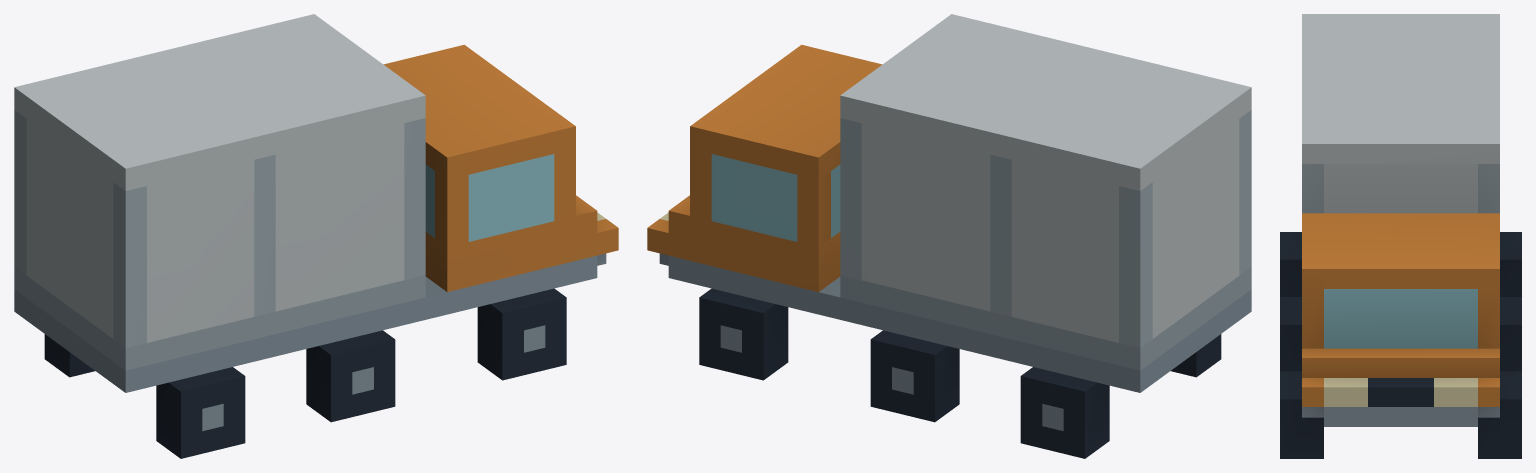
The model's file is truck.glb.
3 renders of one model, left to right at view 1: azimuth 30°, elevation 25°; view 2: azimuth 150°, elevation 25°; view 3: azimuth 270°, elevation 25°, orthographic. The views are drawn at different scales.
Parts seen in each view (by area): view 1: truck_body; view 2: truck_body; view 3: truck_body.
Boxes of the visible parts, <box> form: truck_body: <box>14,14,618,458</box>; truck_body: <box>647,14,1251,458</box>; truck_body: <box>1280,14,1521,458</box>.
Size of the model in its own units: 1.92 by 1.08 by 0.9167.
